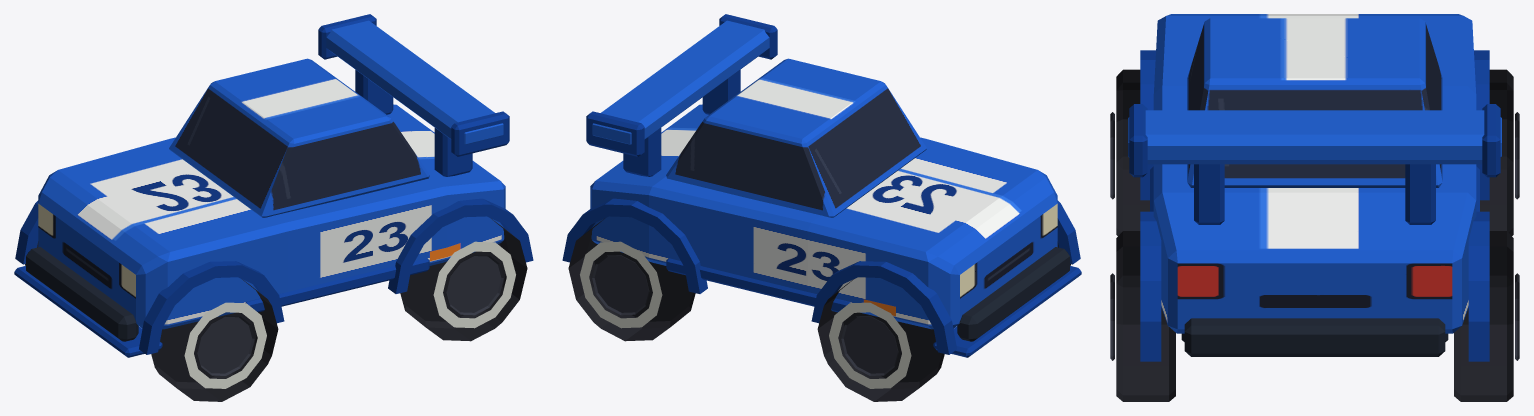
Rendered from TC-01_BlueRacer_A1.fbx.
The picture shows the model from 3 angles, left to right: view 1: azimuth 30°, elevation 25°; view 2: azimuth 150°, elevation 25°; view 3: azimuth 270°, elevation 25°; orthographic projection. The views are drawn at different scales.
Visible parts, largest first — view 1: TC01_Body_ConnectedShell, TC01_Cabin_PrintOnFacets, TC01_Rear_Wing, TC01_Rear_Tire_-1, TC01_Front_Tire_-1, TC01_Front_Bumper, TC01_Front_Arch_-1, TC01_Rear_Arch_-1, TC01_Front_Hub_-1, TC01_Rear_Hub_-1, TC01_Front_WhiteRim_-1, TC01_Rear_WhiteRim_-1 (+7 smaller); view 2: TC01_Body_ConnectedShell, TC01_Cabin_PrintOnFacets, TC01_Rear_Wing, TC01_Rear_Tire_1, TC01_Front_Tire_1, TC01_Front_Bumper, TC01_Front_Arch_1, TC01_Rear_Arch_1, TC01_Front_Hub_1, TC01_Rear_Hub_1, TC01_Front_WhiteRim_1, TC01_Rear_WhiteRim_1 (+7 smaller); view 3: TC01_Body_ConnectedShell, TC01_Cabin_PrintOnFacets, TC01_Rear_Wing, TC01_Rear_Bumper, TC01_Rear_Tire_-1, TC01_Rear_Tire_1, TC01_Front_Tire_-1, TC01_Front_Tire_1, TC01_Rear_Arch_-1, TC01_Rear_Arch_1, TC01_Wing_Support_-1, TC01_Wing_Support_1 (+8 smaller).
Boxes of the visible parts, box(x1,y1,x2,y2) form: TC01_Body_ConnectedShell: box(38, 104, 505, 329); TC01_Cabin_PrintOnFacets: box(169, 58, 429, 217); TC01_Rear_Wing: box(326, 20, 503, 144); TC01_Rear_Tire_-1: box(400, 218, 527, 341); TC01_Front_Tire_-1: box(151, 279, 278, 401); TC01_Front_Bumper: box(26, 247, 138, 341); TC01_Front_Arch_-1: box(139, 261, 284, 354); TC01_Rear_Arch_-1: box(388, 198, 533, 293); TC01_Front_Hub_-1: box(197, 315, 254, 375); TC01_Rear_Hub_-1: box(446, 255, 503, 315); TC01_Front_WhiteRim_-1: box(184, 302, 266, 388); TC01_Rear_WhiteRim_-1: box(433, 241, 515, 328); TC01_Body_ConnectedShell: box(590, 104, 1057, 329); TC01_Cabin_PrintOnFacets: box(666, 58, 926, 217); TC01_Rear_Wing: box(592, 20, 769, 144); TC01_Rear_Tire_1: box(568, 218, 695, 341); TC01_Front_Tire_1: box(817, 279, 944, 401); TC01_Front_Bumper: box(957, 247, 1069, 341); TC01_Front_Arch_1: box(811, 261, 956, 354); TC01_Rear_Arch_1: box(562, 198, 707, 293); TC01_Front_Hub_1: box(841, 315, 898, 375); TC01_Rear_Hub_1: box(592, 255, 649, 315); TC01_Front_WhiteRim_1: box(829, 302, 911, 388); TC01_Rear_WhiteRim_1: box(580, 241, 662, 328); TC01_Body_ConnectedShell: box(1153, 14, 1476, 333); TC01_Cabin_PrintOnFacets: box(1187, 18, 1442, 187); TC01_Rear_Wing: box(1128, 110, 1501, 164); TC01_Rear_Bumper: box(1184, 318, 1445, 356); TC01_Rear_Tire_-1: box(1116, 231, 1175, 401); TC01_Rear_Tire_1: box(1454, 231, 1513, 401); TC01_Front_Tire_-1: box(1116, 69, 1149, 235); TC01_Front_Tire_1: box(1480, 69, 1513, 235); TC01_Rear_Arch_-1: box(1140, 211, 1161, 361); TC01_Rear_Arch_1: box(1468, 211, 1489, 361); TC01_Wing_Support_-1: box(1194, 164, 1224, 224); TC01_Wing_Support_1: box(1405, 164, 1435, 224).
Size of the model in its own units: 3.2 by 1.64 by 2.13.
7 materials, 1 textured.
